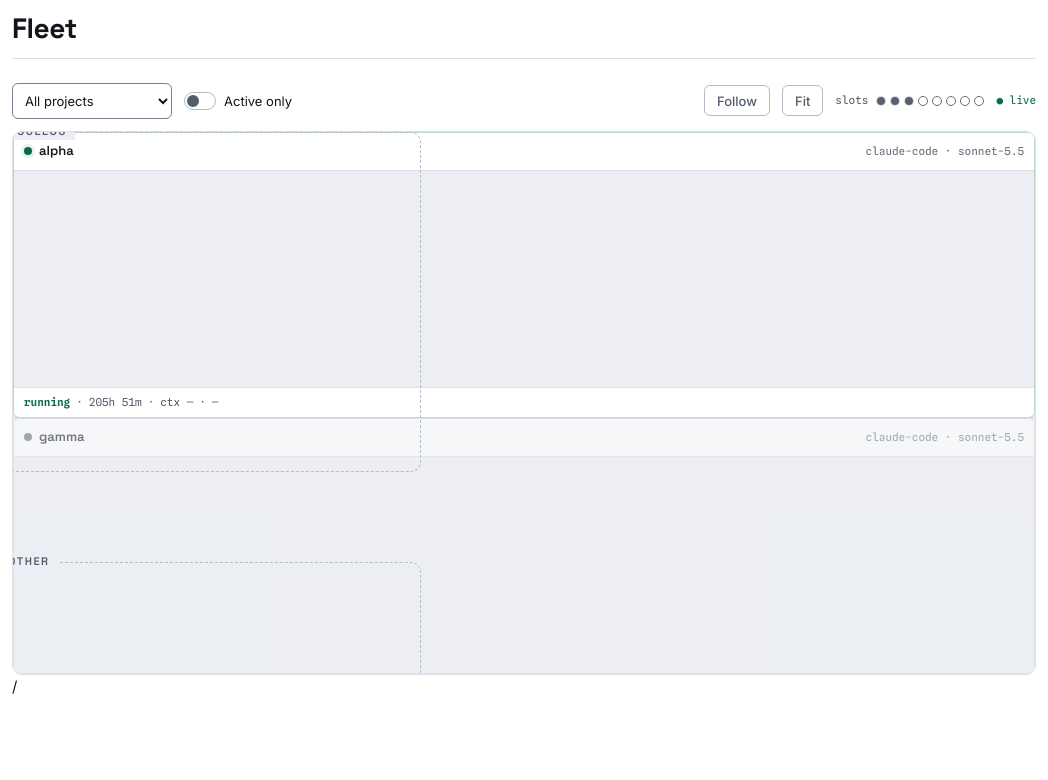
Test: Fleet › says so when the project filter matches nothing instead of drawing a blank pane
Expected: the element "alpha" is shown, [13,132,1035,418]
Select "other" in the dropdown named "Project" at (92, 101), box [12,83,172,119]
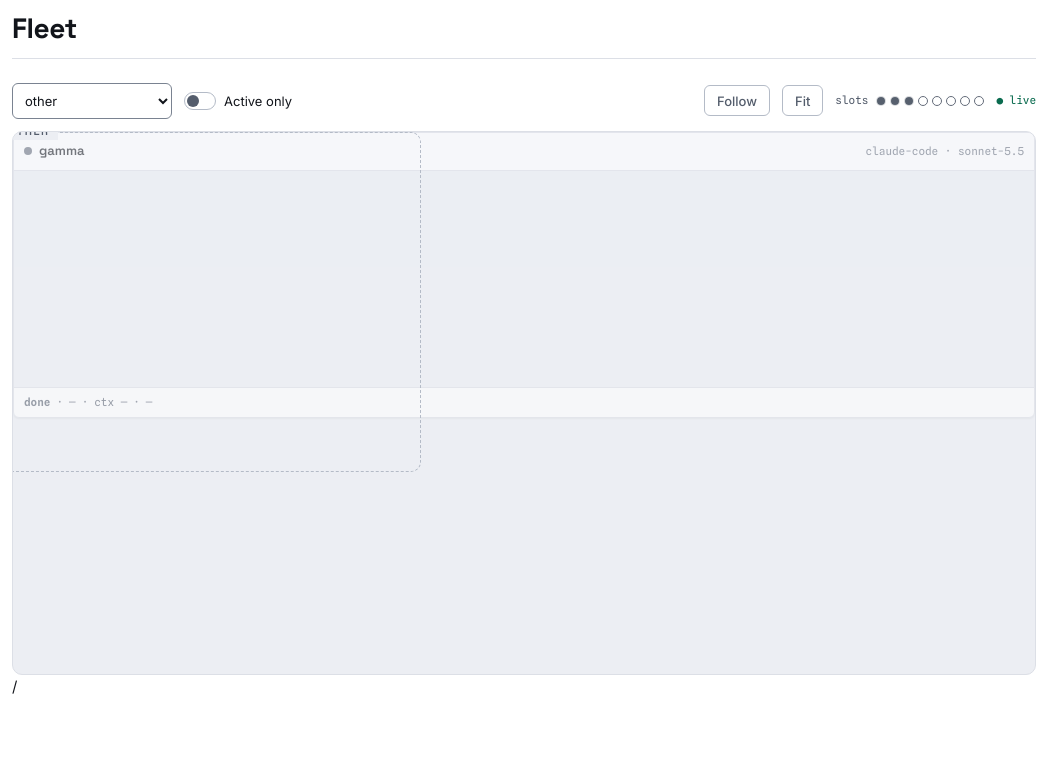
Click the switch labelled "Active only".
click(200, 101)  # box [184,92,216,110]
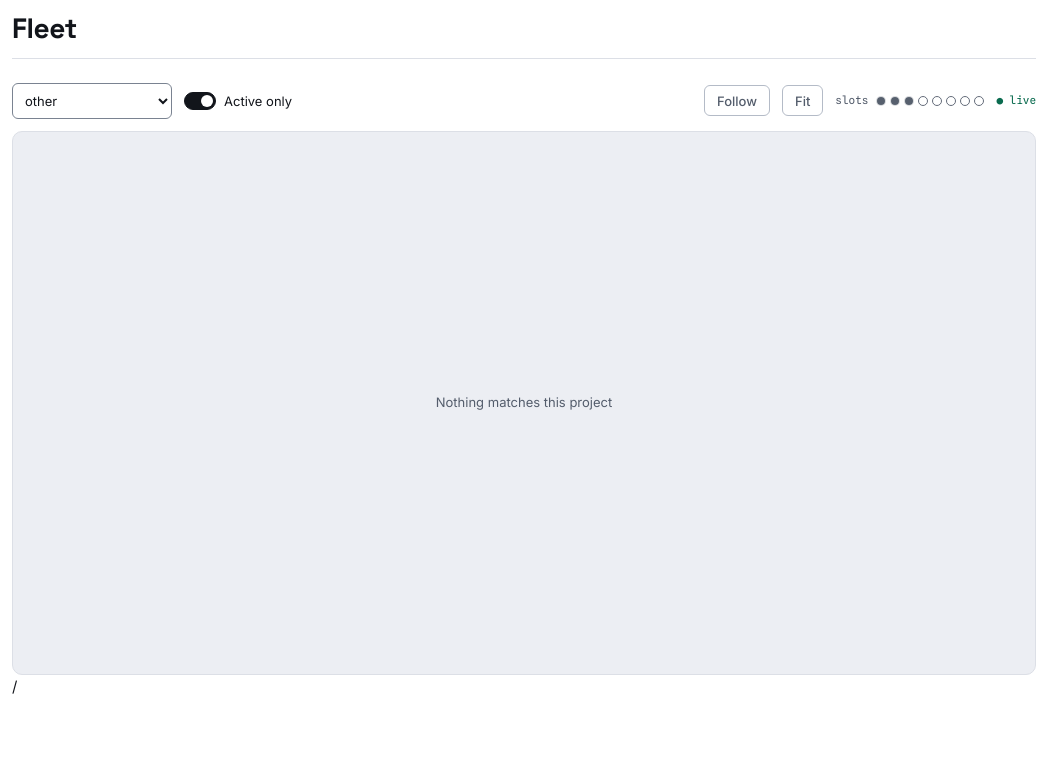
Result: the text "Nothing matches this project" is shown at [436,394,612,411]
